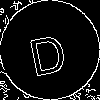D: (25, 25, 69, 77)
